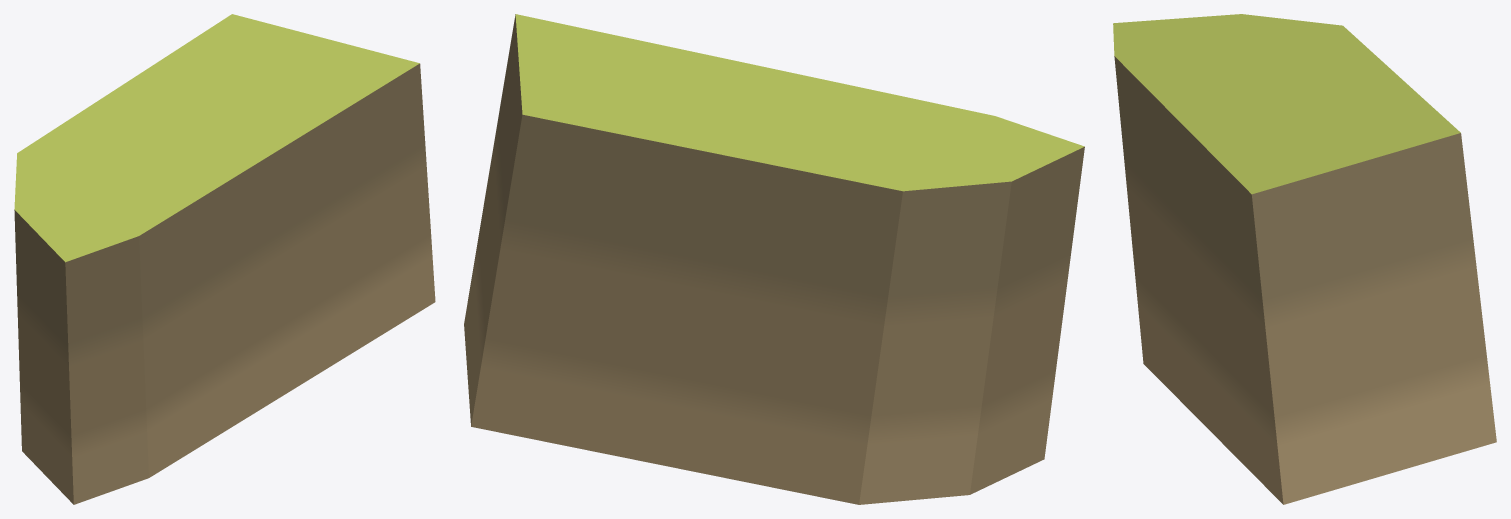
Rendered from 0666_Liberia.glb.
3 renders of one model, left to right at view 1: azimuth 30°, elevation 25°; view 2: azimuth 150°, elevation 25°; view 3: azimuth 270°, elevation 25°, orthographic. The views are drawn at different scales.
Parts seen in each view (by area): view 1: part_0; view 2: part_0; view 3: part_0.
Part boxes in pixels (x1=…): part_0: x1=14, y1=14, x2=435, y2=504; part_0: x1=464, y1=14, x2=1084, y2=504; part_0: x1=1113, y1=14, x2=1496, y2=504.
Bounding box in the file's own units: 0.3591 × 0.2447 × 0.2338.
1 material, 1 textured.
